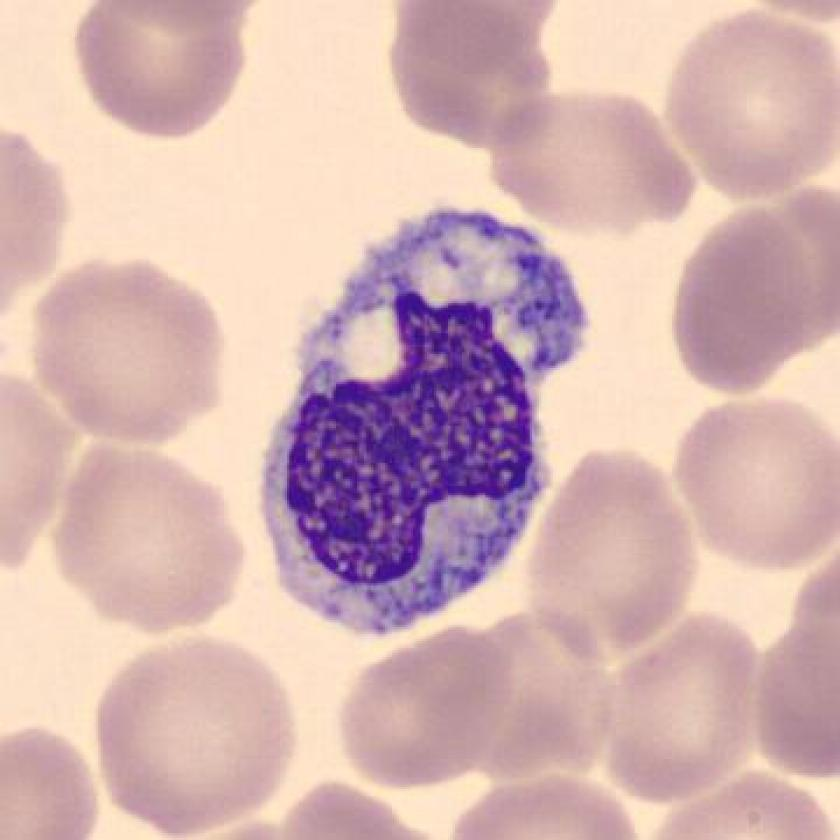monocyte: (241, 193, 617, 647)
